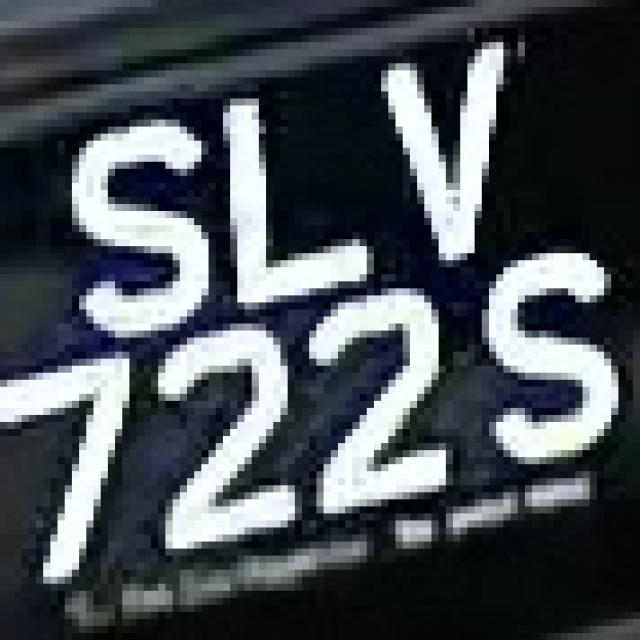2: (266, 253, 453, 542), (130, 330, 316, 542)
7: (15, 338, 136, 626)
L: (201, 70, 374, 310)
S: (43, 91, 209, 338), (467, 232, 633, 478)
V: (345, 28, 539, 274)
